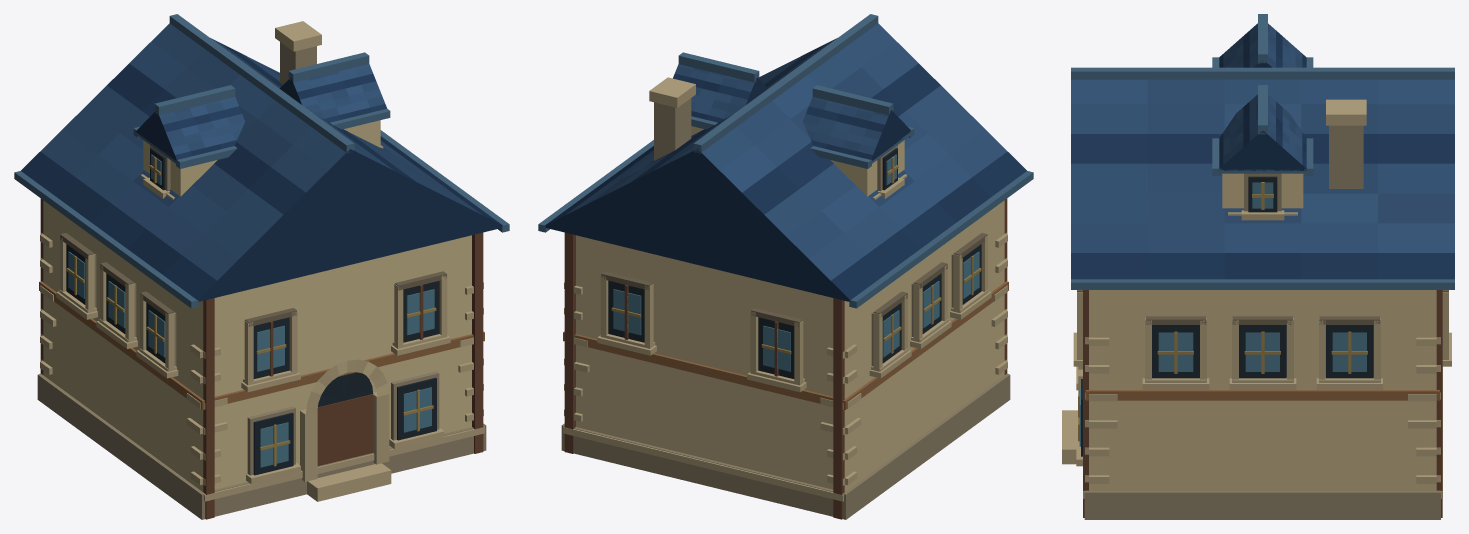
File: falan_townhouse.glb
The picture shows the model from 3 angles, left to right: view 1: azimuth 30°, elevation 25°; view 2: azimuth 150°, elevation 25°; view 3: azimuth 270°, elevation 25°; orthographic projection. The views are drawn at different scales.
Visible parts, largest first — view 1: falan_townhouse; view 2: falan_townhouse; view 3: falan_townhouse.
Boxes of the visible parts, left/top/right/bottom form: falan_townhouse: left=14, top=14, right=509, bottom=519; falan_townhouse: left=538, top=14, right=1033, bottom=519; falan_townhouse: left=1062, top=14, right=1454, bottom=519.
Size of the model in its own units: 13.76 by 14.36 by 13.55.
